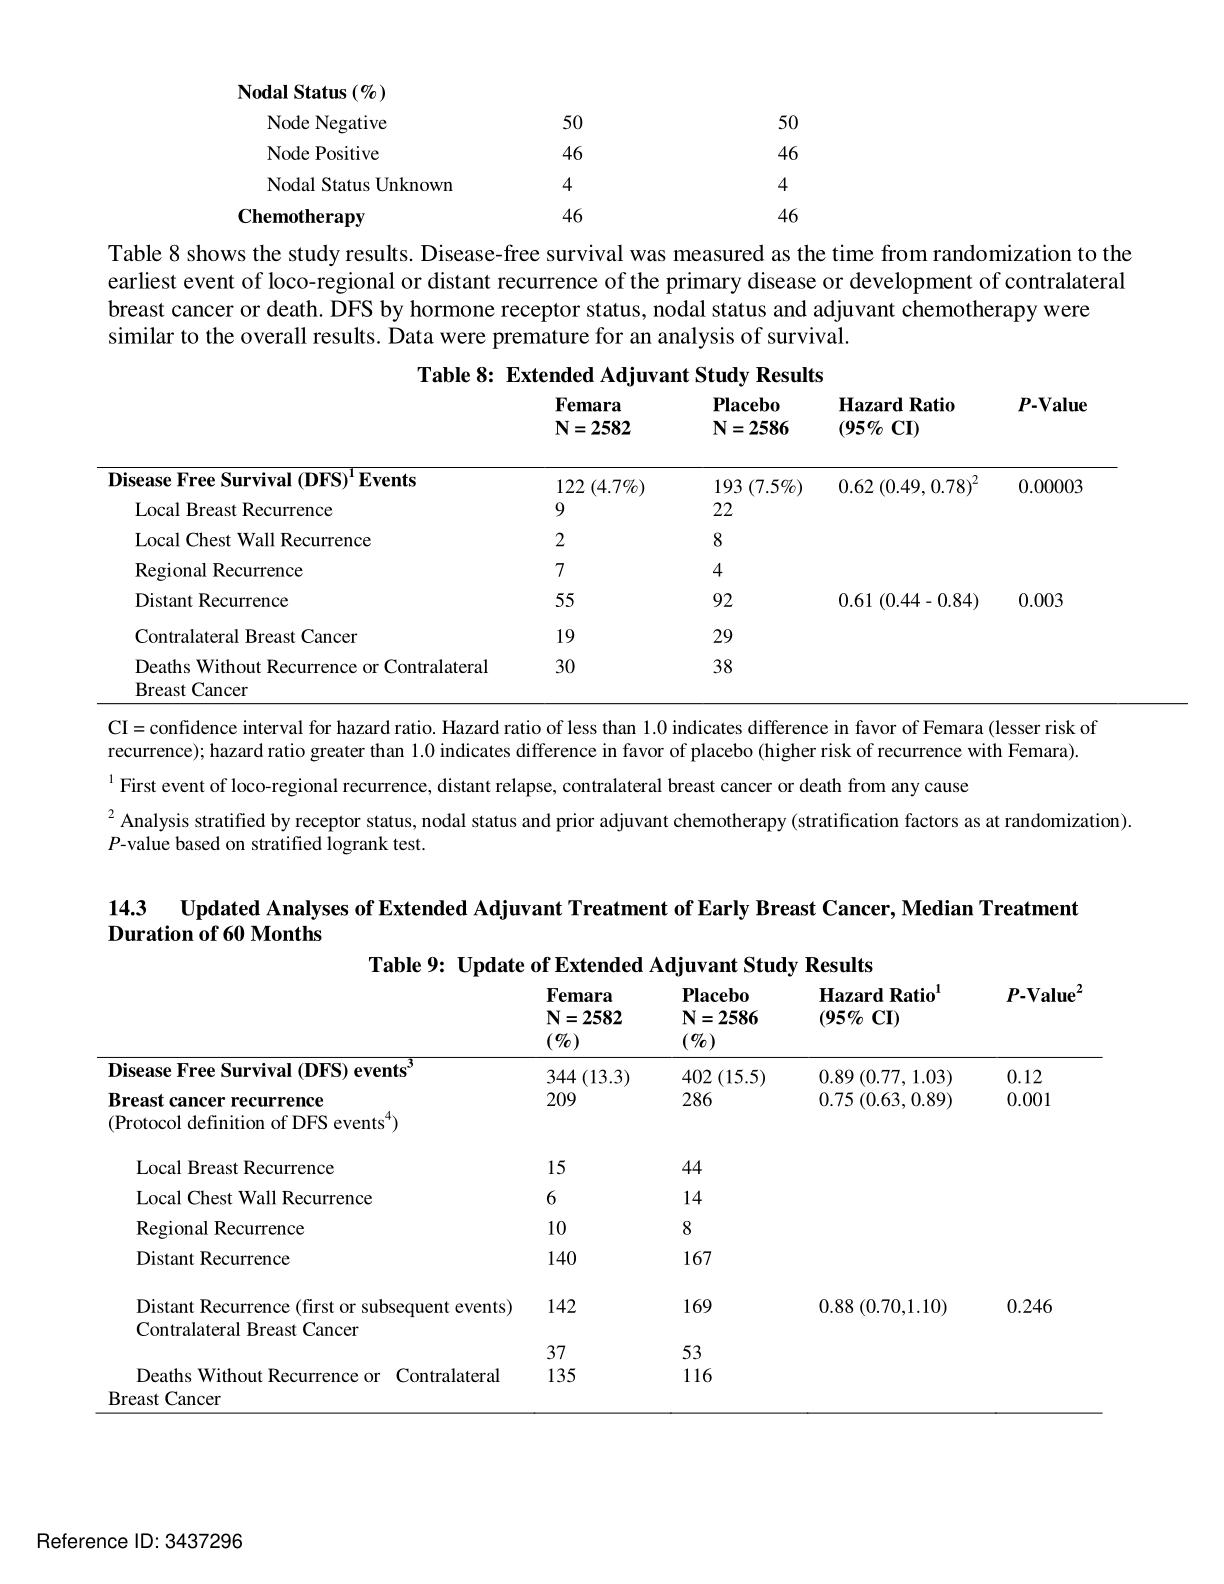nolines: (231, 77, 805, 229)
partial_lined: (93, 984, 1104, 1416), (94, 392, 1188, 705)
